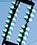gap: (20, 16, 33, 32)
